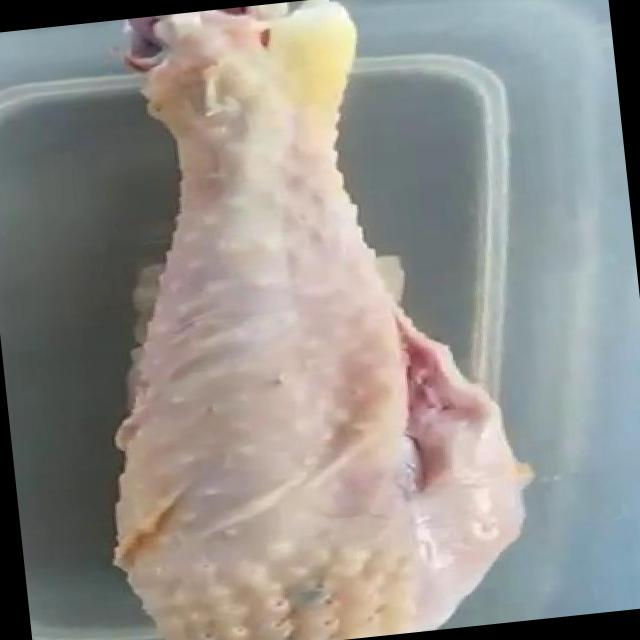chicken: (44, 0, 548, 640)
